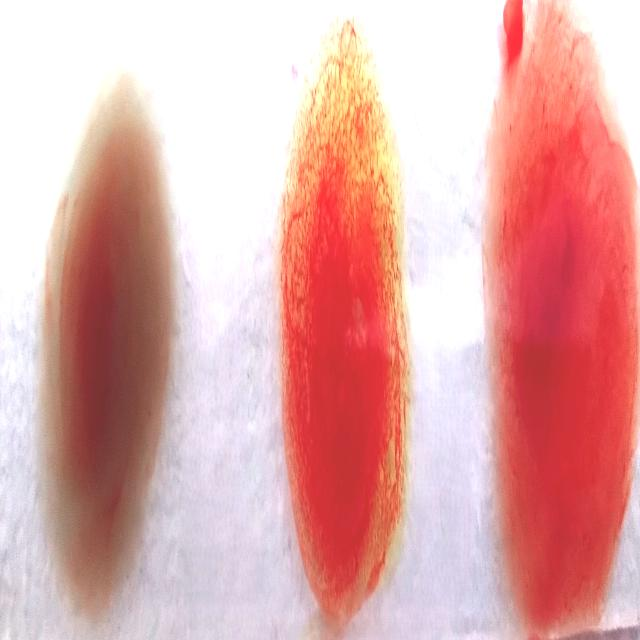B: (284, 23, 408, 633)
D: (492, 8, 636, 640)
